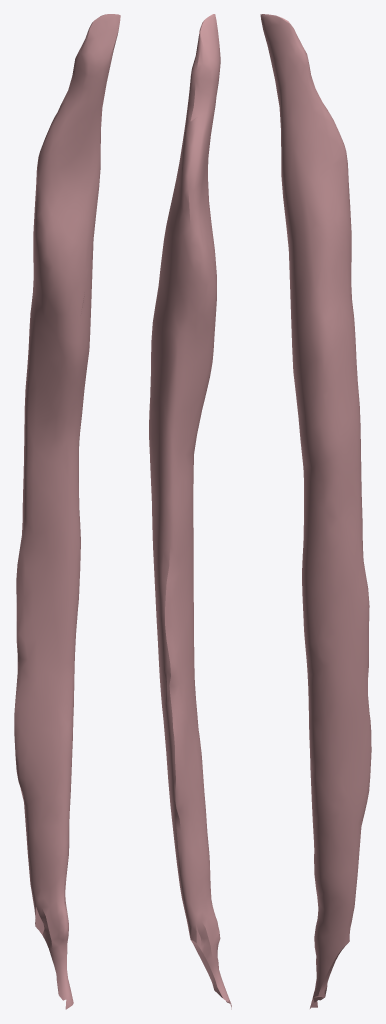
The model's file is fma298016_mm1717.glb.
The picture shows the model from 3 angles, left to right: view 1: azimuth 90°, elevation 25°; view 2: azimuth 150°, elevation 25°; view 3: azimuth 270°, elevation 25°; orthographic projection. The views are drawn at different scales.
Parts seen in each view (by area): view 1: FMA298016_MM1717; view 2: FMA298016_MM1717; view 3: FMA298016_MM1717.
Part boxes in pixels (bbox=[...]): FMA298016_MM1717: bbox=[14, 14, 120, 1009]; FMA298016_MM1717: bbox=[149, 14, 231, 1009]; FMA298016_MM1717: bbox=[260, 14, 371, 1008].
Size of the model in its own units: 0.025 by 0.2988 by 0.0296.
